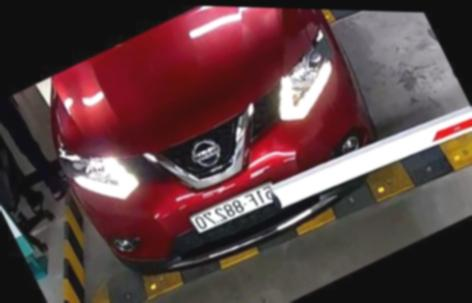License_Plate: (179, 174, 279, 240)
